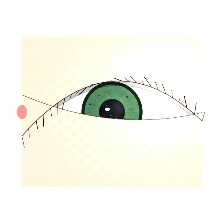pinguecula_lesion: (32, 100, 74, 134)
